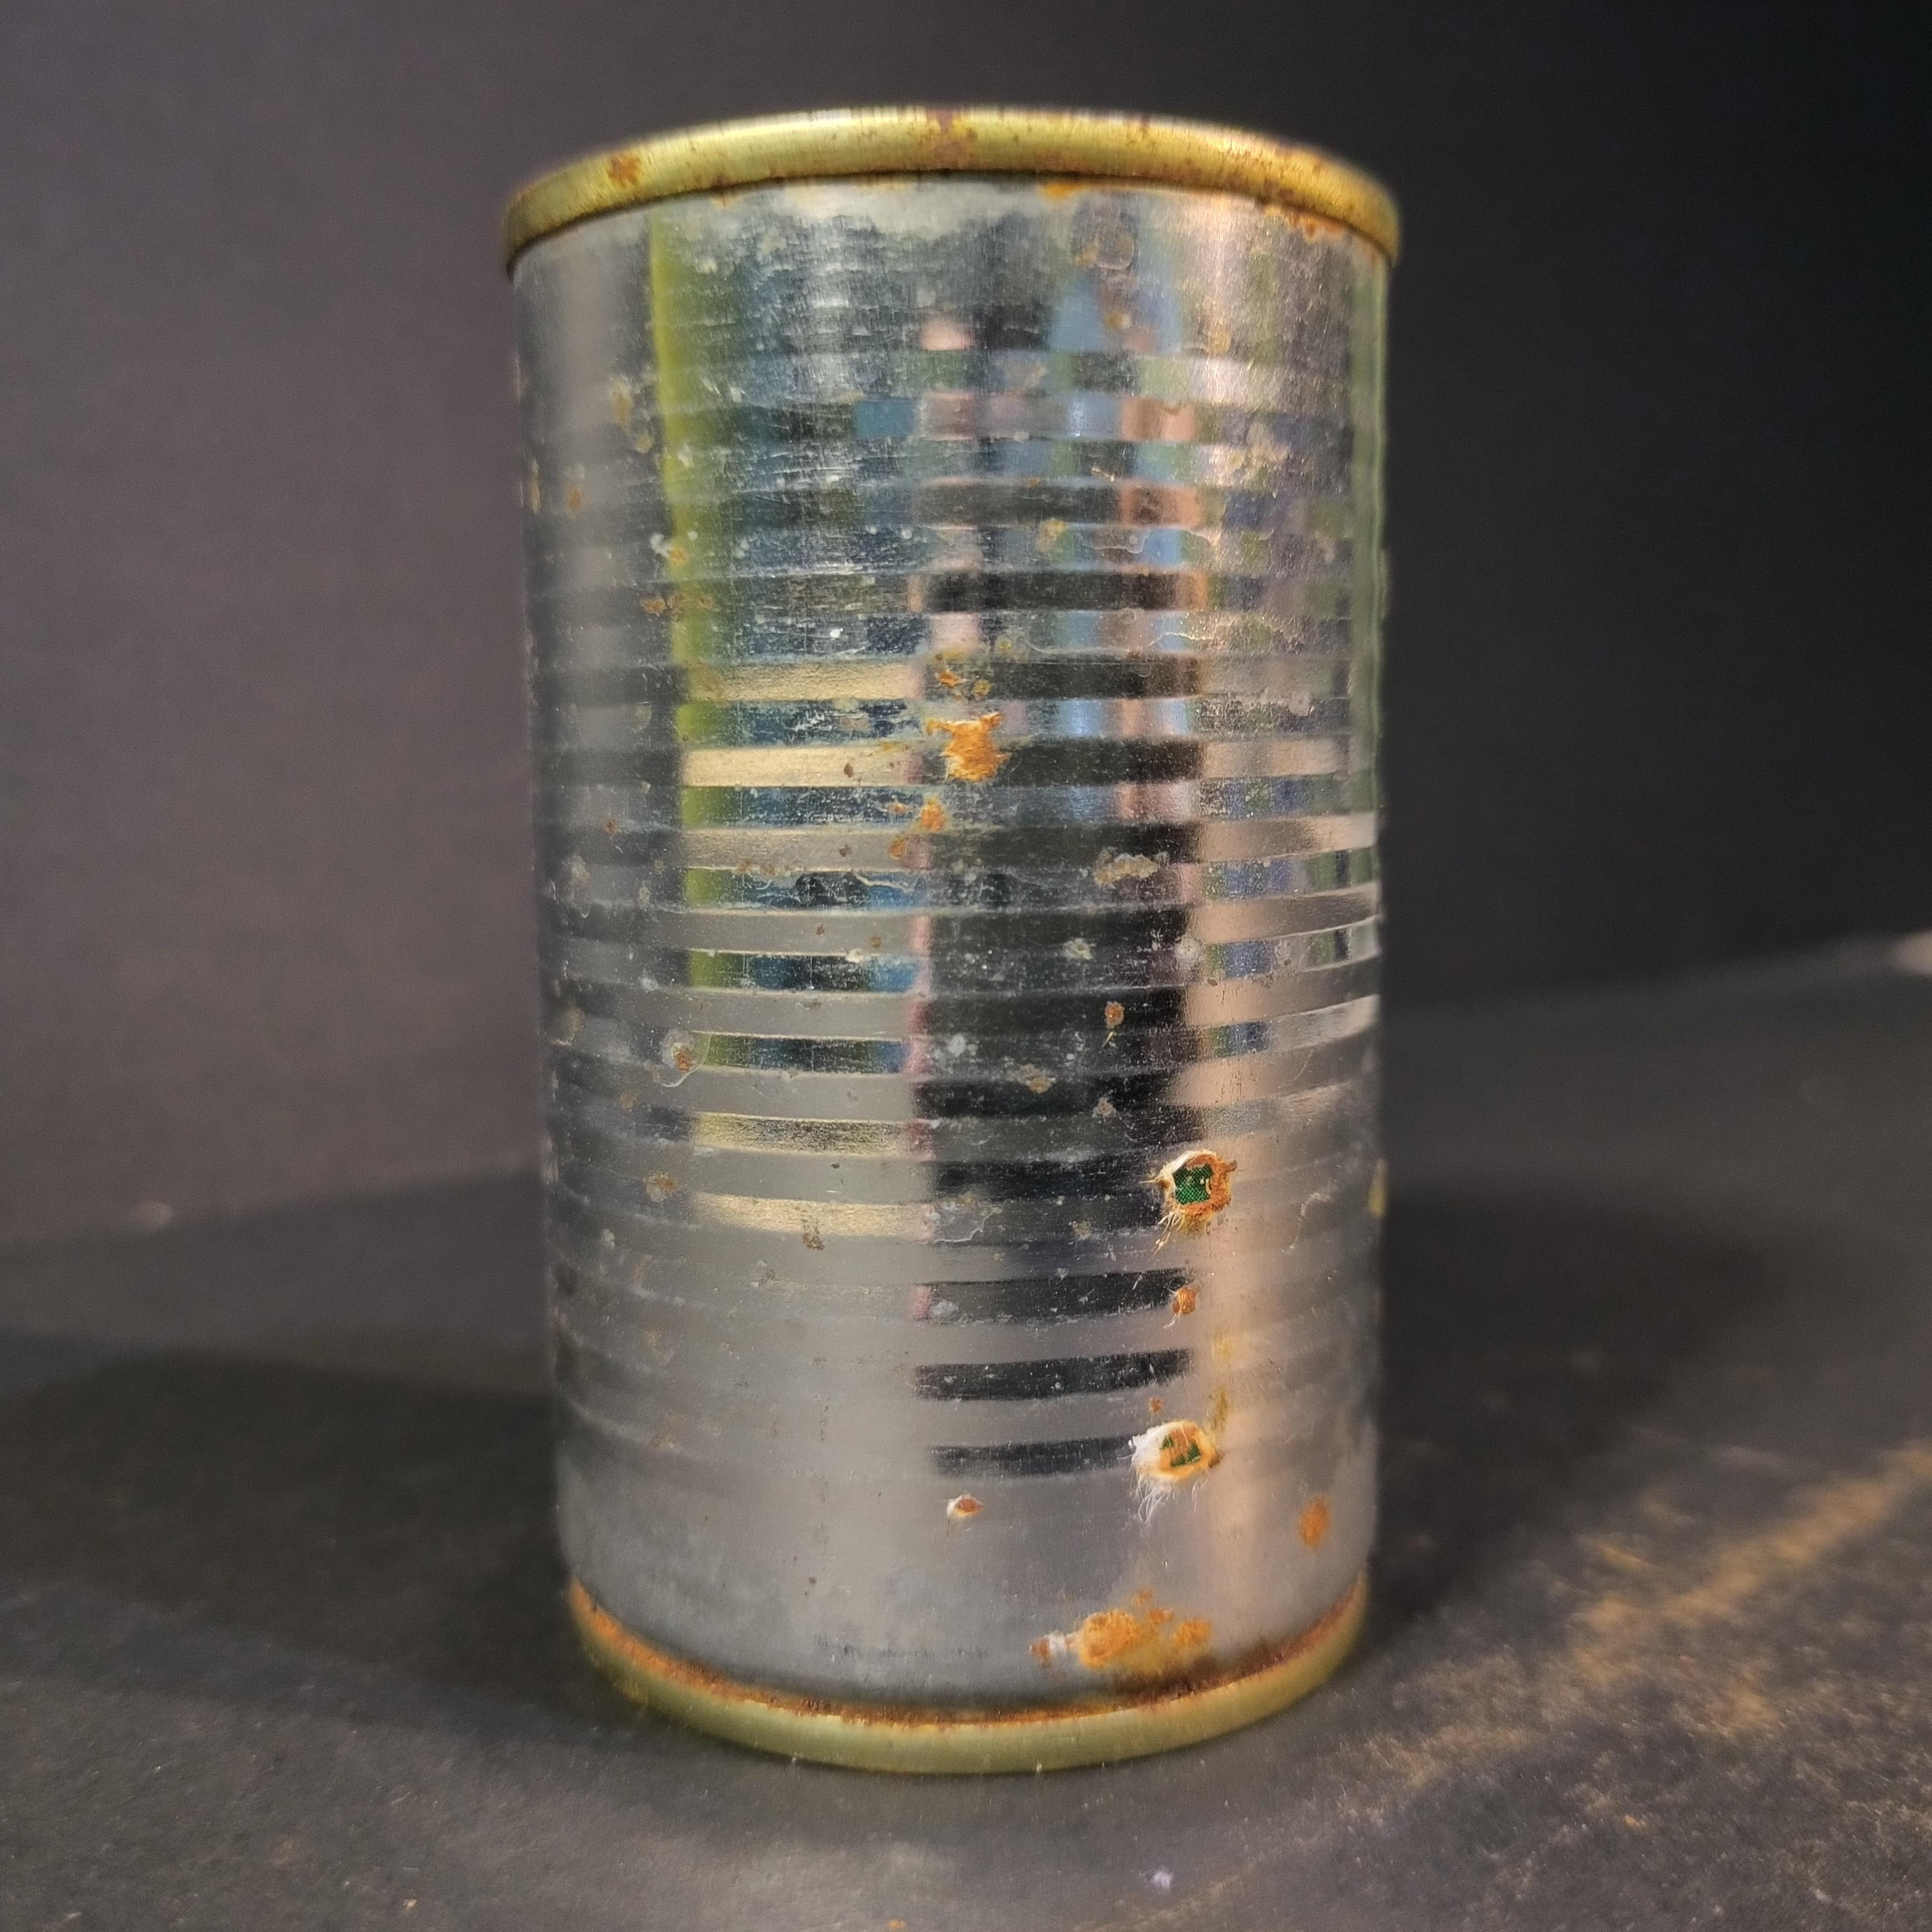Rusted: (472, 83, 1410, 1787)
